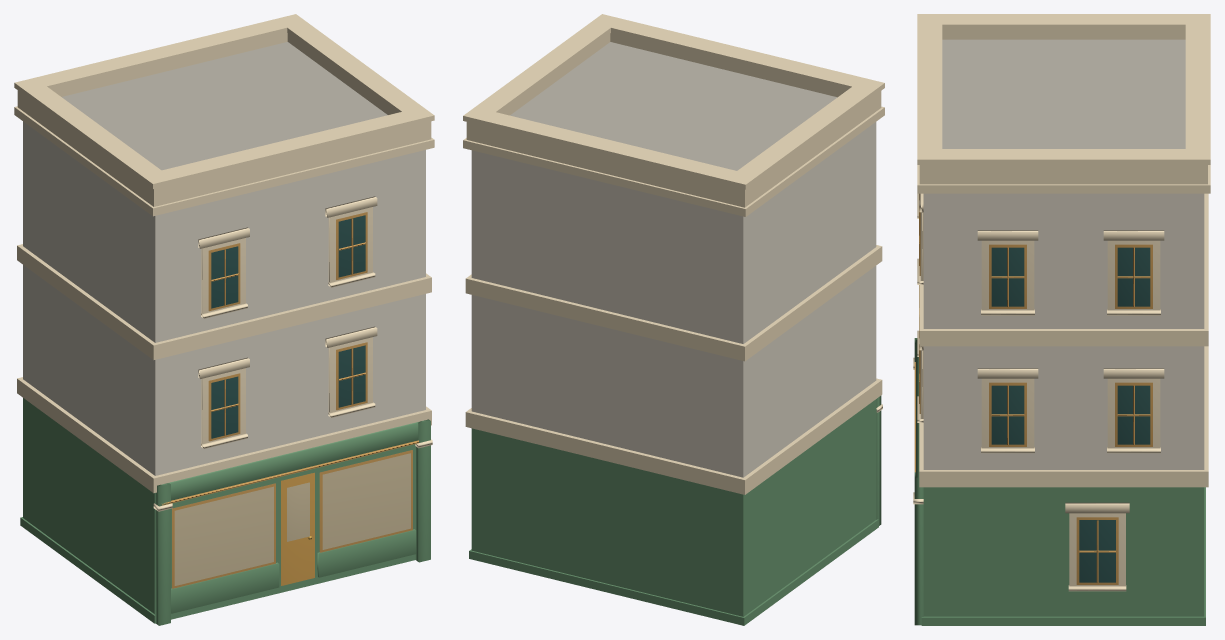
The model's file is building_mid_stone.glb.
3 views of the same model, side by side, from view 1: azimuth 30°, elevation 25°; view 2: azimuth 150°, elevation 25°; view 3: azimuth 270°, elevation 25° (orthographic). The views are drawn at different scales.
Parts seen in each view (by area): view 1: WallUpper, Roof, WallGround, ParapetCap, Parapet, ShopWinGlass0, Band1, ShopWinGlass1, Band0, ShopFascia, Cornice, Plinth (+20 smaller); view 2: WallUpper, WallGround, Roof, ParapetCap, Parapet, Band0, Band1, Cornice, Plinth, ShopPilaster0.10; view 3: WallUpper, WallGround, Roof, ParapetCap, Parapet, Band1, Band0, Plinth, Cornice, SG0Glass, S2W0Glass, S2W1Glass (+19 smaller).
Boxes of the visible parts, x1=… form: WallUpper: x1=23, y1=121, x2=425, y2=475; Roof: x1=62, y1=42, x2=387, y2=170; WallGround: x1=23, y1=398, x2=154, y2=613; ParapetCap: x1=14, y1=14, x2=434, y2=188; Parapet: x1=17, y1=33, x2=431, y2=206; ShopWinGlass0: x1=174, y1=486, x2=273, y2=585; Band1: x1=17, y1=244, x2=431, y2=359; ShopWinGlass1: x1=322, y1=453, x2=410, y2=549; Band0: x1=17, y1=377, x2=431, y2=493; ShopFascia: x1=162, y1=421, x2=419, y2=500; Cornice: x1=14, y1=106, x2=434, y2=216; Plinth: x1=20, y1=517, x2=415, y2=623; WallUpper: x1=471, y1=122, x2=876, y2=477; WallGround: x1=471, y1=399, x2=876, y2=616; Roof: x1=510, y1=42, x2=837, y2=170; ParapetCap: x1=463, y1=14, x2=884, y2=189; Parapet: x1=466, y1=33, x2=881, y2=207; Band0: x1=465, y1=378, x2=882, y2=494; Band1: x1=465, y1=245, x2=882, y2=361; Cornice: x1=463, y1=106, x2=884, y2=216; Plinth: x1=469, y1=519, x2=878, y2=625; ShopPilaster0.10: x1=876, y1=395, x2=881, y2=525; WallUpper: x1=923, y1=193, x2=1204, y2=469; WallGround: x1=923, y1=487, x2=1204, y2=616; Roof: x1=942, y1=39, x2=1185, y2=148; ParapetCap: x1=917, y1=14, x2=1210, y2=164; Parapet: x1=919, y1=30, x2=1207, y2=184; Band1: x1=919, y1=193, x2=1208, y2=346; Band0: x1=919, y1=346, x2=1208, y2=487; Plinth: x1=921, y1=487, x2=1205, y2=625; Cornice: x1=917, y1=165, x2=1210, y2=193; SG0Glass: x1=1079, y1=520, x2=1115, y2=582; S2W0Glass: x1=991, y1=385, x2=1024, y2=444; S2W1Glass: x1=1117, y1=385, x2=1150, y2=444.
Size of the model in its own units: 5.21 by 7.81 by 4.5.
